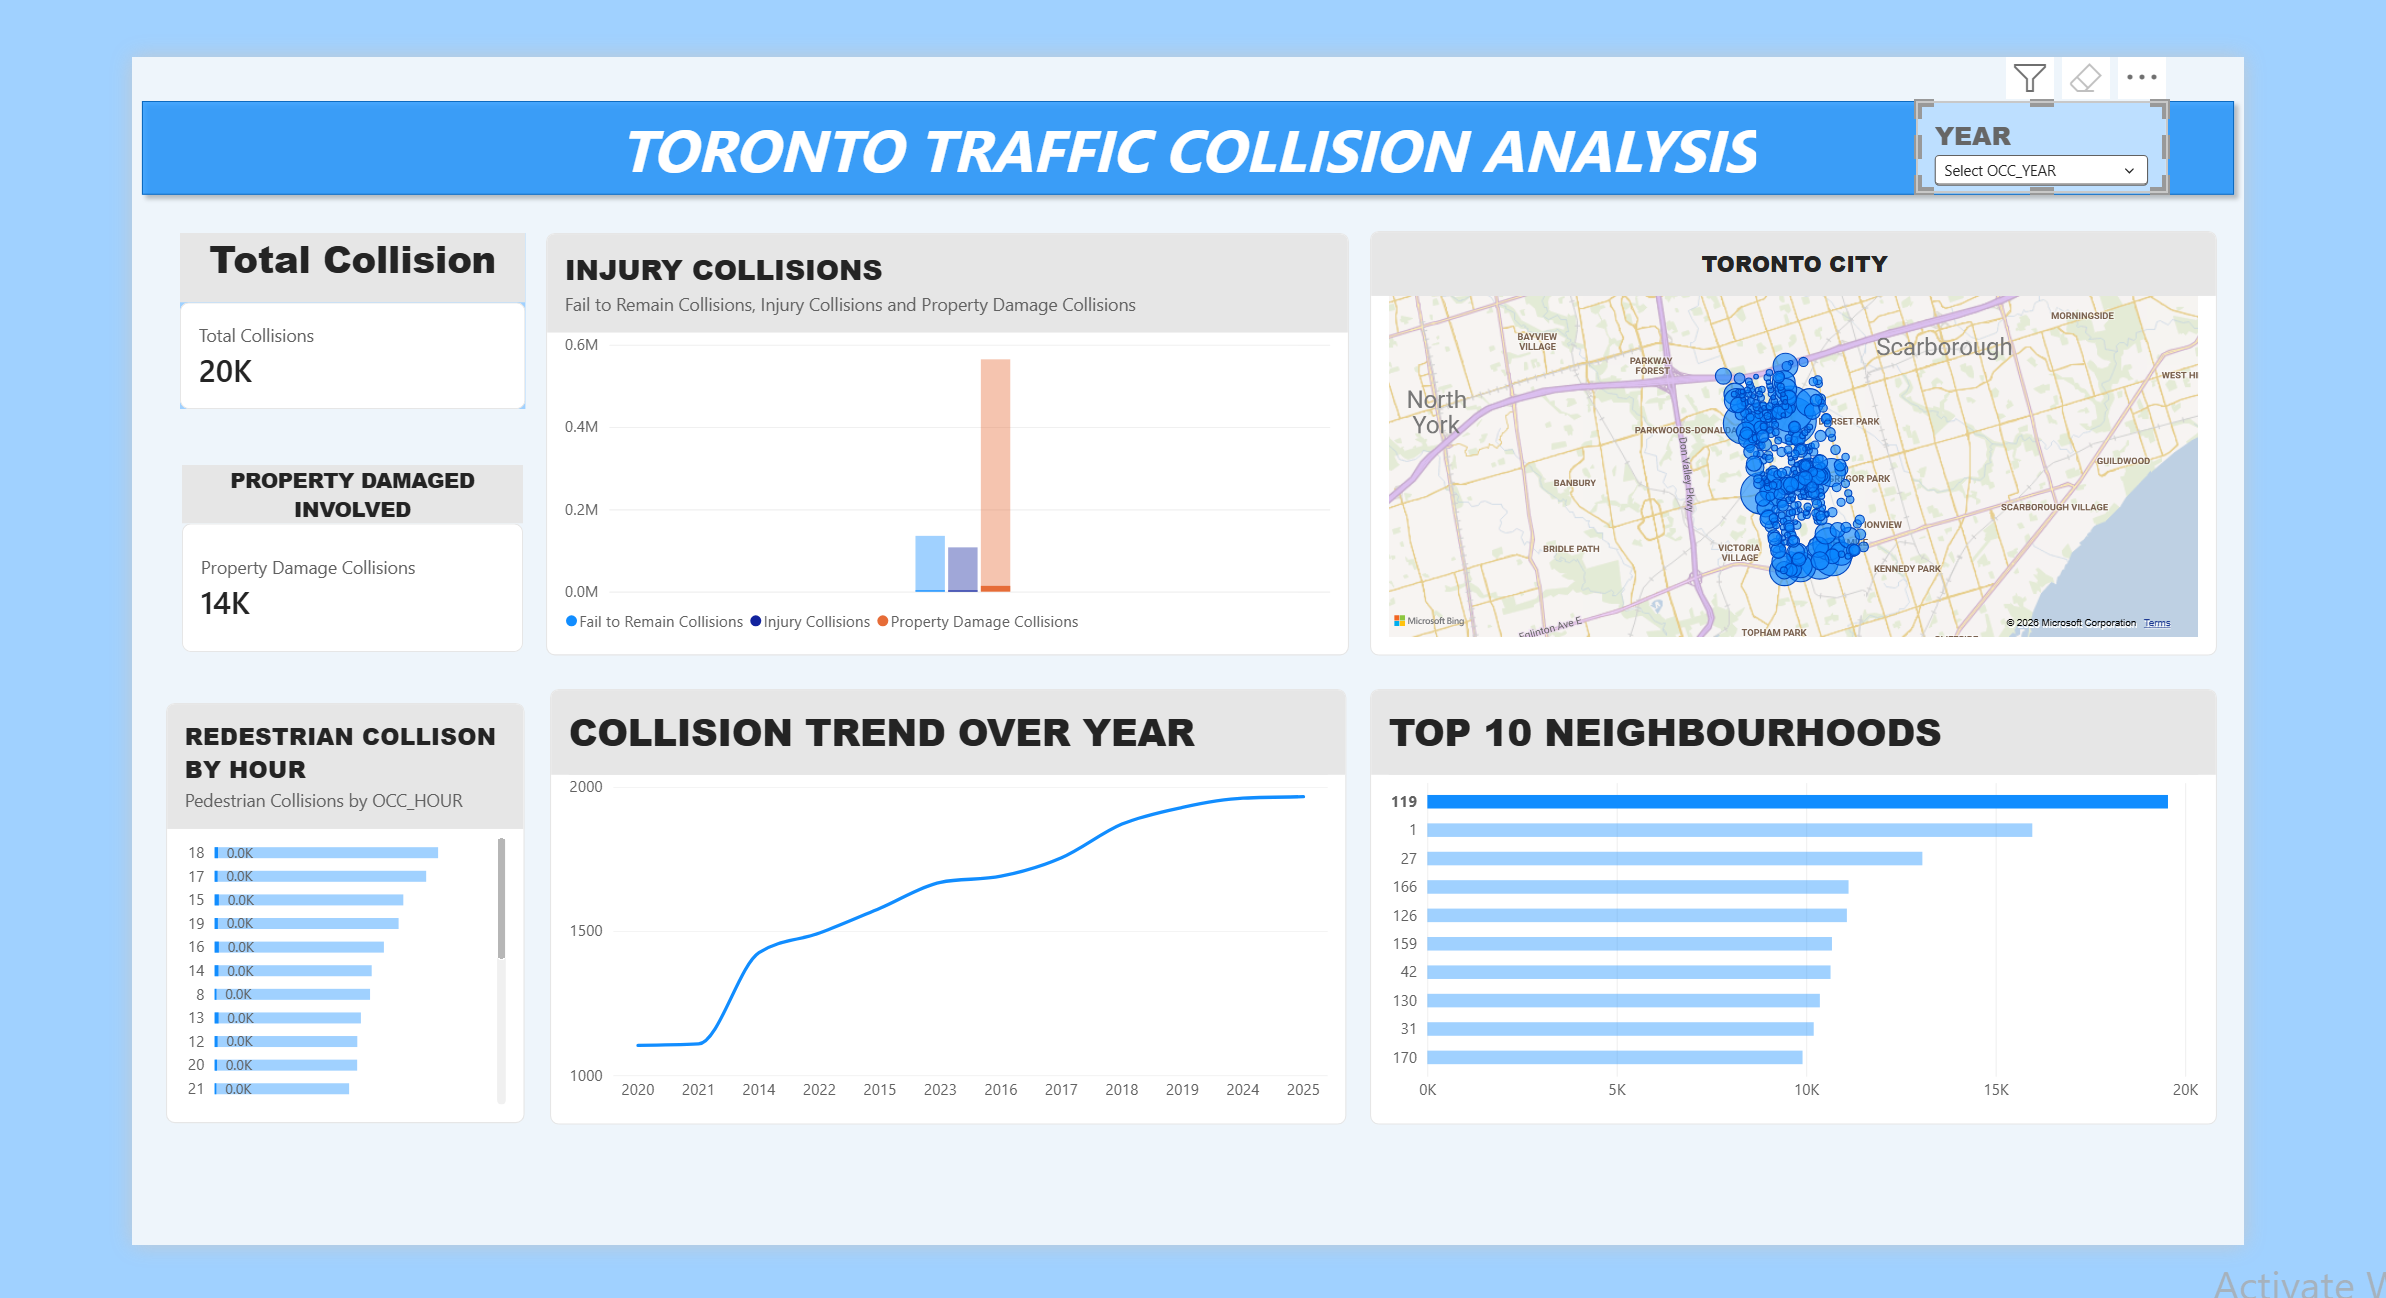

This screenshot's page, from the dashboard's own definition file:
{"tool":"powerbi","page":{"name":"Page 1","canvas":[1920,1080],"ordinal":0},"visuals":[{"type":"cardVisual","title":"Total Collision ","fields":{"Data":["_Measures.Total Collisions"]},"box":[44,160,314,160],"z":0},{"type":"cardVisual","title":"PROPERTY DAMAGED INVOLVED","fields":{"Data":["_Measures.Property Damage Collisions"]},"box":[46,370,310,170],"z":3000},{"type":"clusteredColumnChart","title":"INJURY COLLISIONS","fields":{"Y":["_Measures.Fail to Remain Collisions","_Measures.Injury Collisions","_Measures.Property Damage Collisions"]},"box":[376,160,730,384],"z":4000},{"type":"clusteredBarChart","title":"REDESTRIAN COLLISON BY HOUR","fields":{"Category":["Traffic Collisions - 4326.OCC_HOUR"],"Y":["_Measures.Pedestrian Collisions"]},"box":[30,588,326,382],"z":5000},{"type":"map","title":"TORONTO CITY","fields":{"Size":["_Measures.Total Collisions"],"X":["Traffic Collisions - 4326.LONG_WGS84"],"Y":["Traffic Collisions - 4326.LAT_WGS84"]},"box":[1126,158,770,386],"z":6000},{"type":"lineChart","title":"COLLISION TREND OVER YEAR","fields":{"Category":["Traffic Collisions - 4326.OCC_YEAR"],"Y":["_Measures.Total Collisions"]},"box":[380,574,724,396],"z":7000},{"type":"shape","box":[0,30,1920,103.3],"z":7500},{"type":"clusteredBarChart","title":"TOP 10 NEIGHBOURHOODS","fields":{"Category":["Traffic Collisions - 4326.HOOD_158"],"Y":["_Measures.Total Collisions"]},"box":[1126,574,770,396],"z":8000},{"type":"listSlicer","title":"YEAR","fields":{"Values":["Traffic Collisions - 4326.OCC_YEAR"]},"box":[1622,40,228,84],"z":12500}]}

Visuals, with their boxes on the page's 1920x1080 design canvas (x1, y1, x2, y2). These are canvas units, not pixel positions in the 2386x1298 screenshot, which may show the page scaled, cropped or inside an application window:
"Total Collision " cardVisual: <bbox>44, 160, 358, 320</bbox>
"PROPERTY DAMAGED INVOLVED" cardVisual: <bbox>46, 370, 356, 540</bbox>
"INJURY COLLISIONS" clusteredColumnChart: <bbox>376, 160, 1106, 544</bbox>
"REDESTRIAN COLLISON BY HOUR" clusteredBarChart: <bbox>30, 588, 356, 970</bbox>
"TORONTO CITY" map: <bbox>1126, 158, 1896, 544</bbox>
"COLLISION TREND OVER YEAR" lineChart: <bbox>380, 574, 1104, 970</bbox>
shape: <bbox>0, 30, 1920, 133</bbox>
"TOP 10 NEIGHBOURHOODS" clusteredBarChart: <bbox>1126, 574, 1896, 970</bbox>
"YEAR" listSlicer: <bbox>1622, 40, 1850, 124</bbox>
